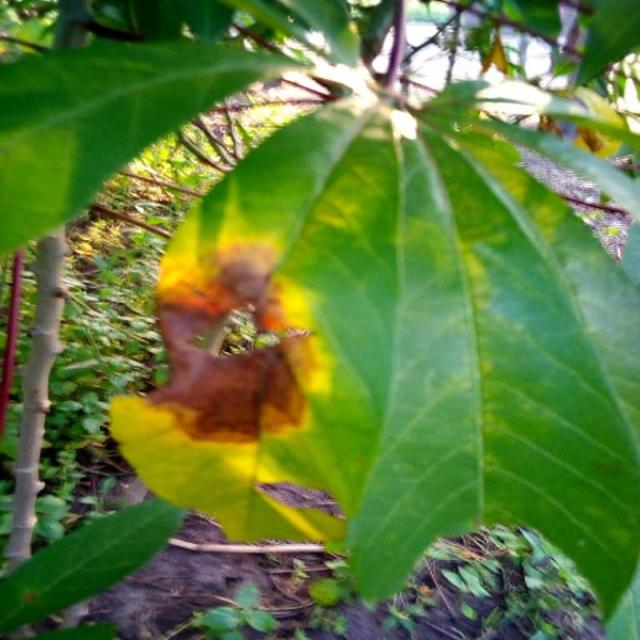cassava leaf: (108, 80, 638, 624)
